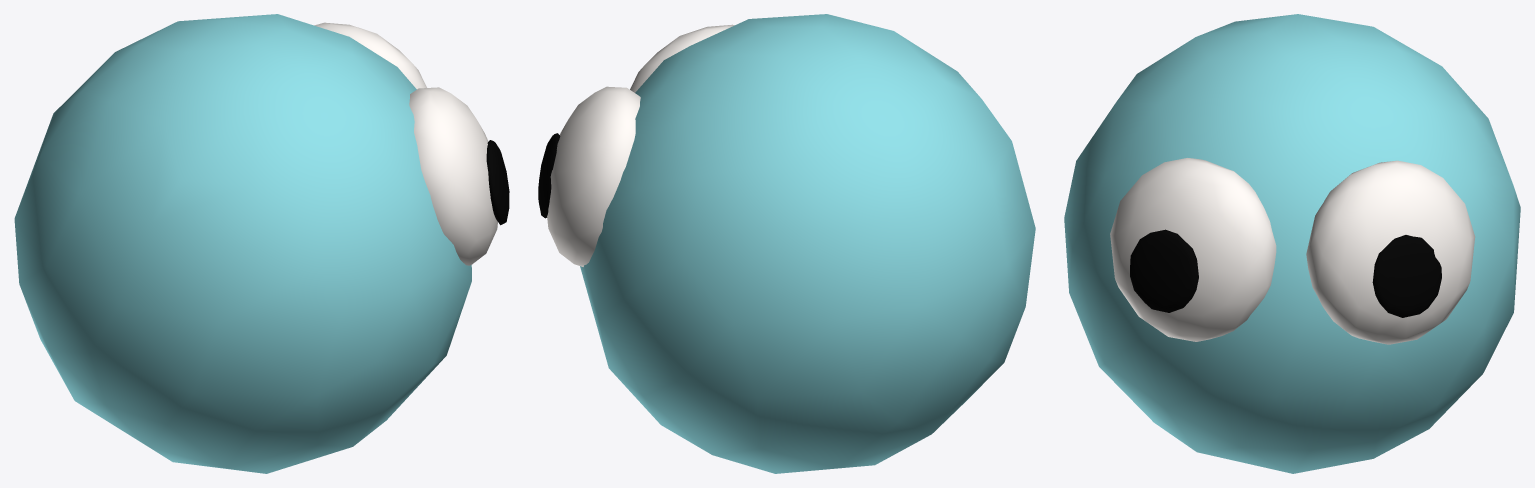
File: Head_LowPoly.fbx
3 views of the same model, side by side, from view 1: azimuth 30°, elevation 25°; view 2: azimuth 150°, elevation 25°; view 3: azimuth 270°, elevation 25° (orthographic).
Visible parts, largest first — view 1: Sphere, Sphere.001, Sphere.002, Sphere.004; view 2: Sphere, Sphere.002, Sphere.001, Sphere.003; view 3: Sphere, Sphere.002, Sphere.001, Sphere.004, Sphere.003.
Part boxes in pixels (x1=…): Sphere: x1=14, y1=14, x2=471, y2=473; Sphere.001: x1=409, y1=87, x2=497, y2=265; Sphere.002: x1=314, y1=22, x2=426, y2=89; Sphere.004: x1=486, y1=140, x2=509, y2=225; Sphere: x1=580, y1=14, x2=1035, y2=473; Sphere.002: x1=547, y1=86, x2=640, y2=266; Sphere.001: x1=630, y1=24, x2=734, y2=92; Sphere.003: x1=538, y1=133, x2=560, y2=218; Sphere: x1=1064, y1=14, x2=1520, y2=473; Sphere.002: x1=1306, y1=160, x2=1475, y2=344; Sphere.001: x1=1110, y1=158, x2=1276, y2=341; Sphere.004: x1=1130, y1=229, x2=1198, y2=312; Sphere.003: x1=1372, y1=235, x2=1441, y2=317.
Size of the model in its own units: 5.22 by 4.96 by 4.94.
